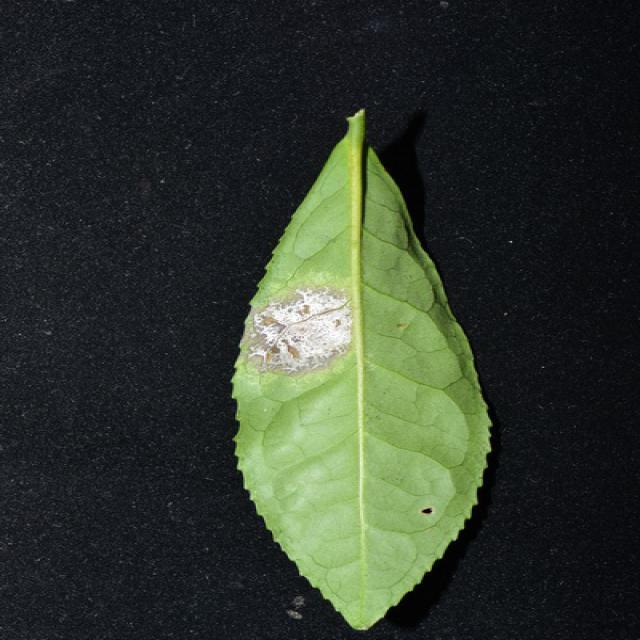Tea exobasidium blight: (251, 285, 360, 373)
